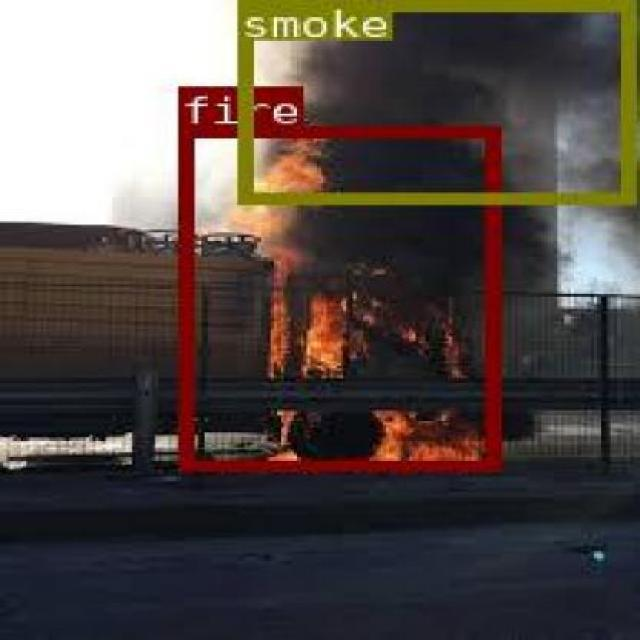CIV_Plane: (177, 126, 497, 468)
Fire: (177, 126, 497, 468)
Smoke: (239, 0, 629, 200)
